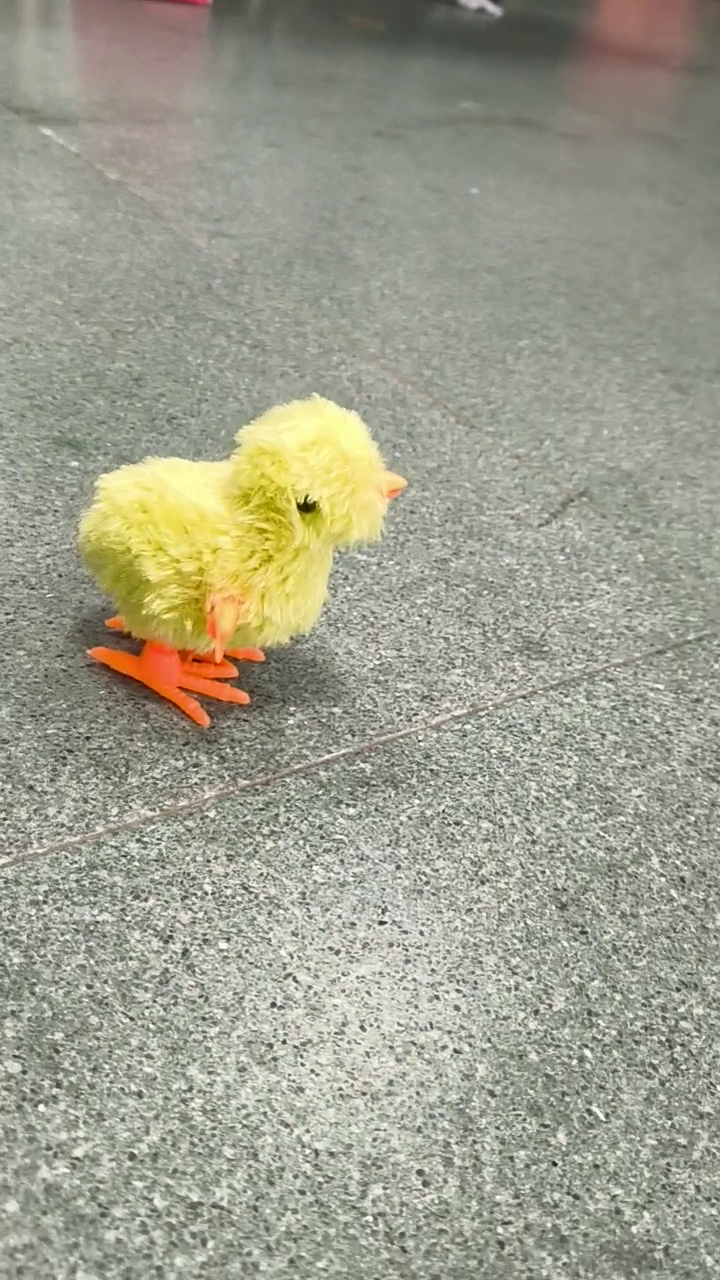yellow chicken: (71, 389, 413, 738)
